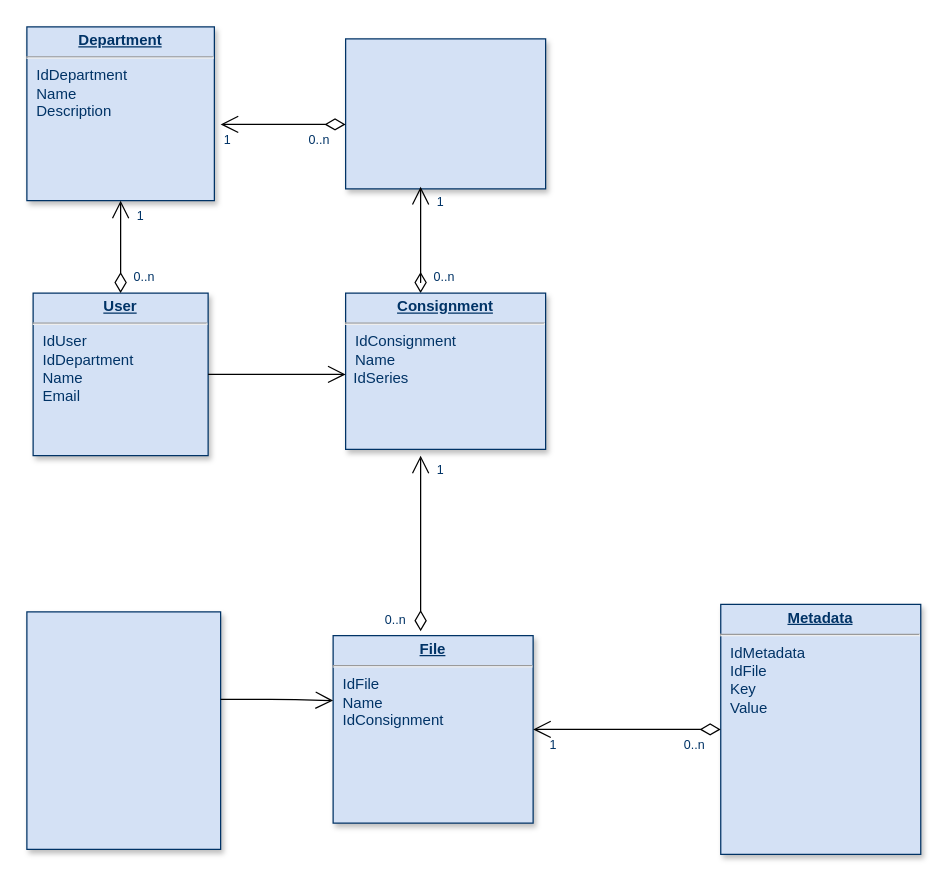
This 951x885 diagram has some shape labels left out. The shapes that lost their labels are listed below. From the top down, each one's centre as x and y in pixels, then its label:
point 446,115: Series IdSeries IdDepartment Name Description
point 124,732: FileStatus IdStatus IdFile ChecksumVerified AVStatus FileFormatStatus
